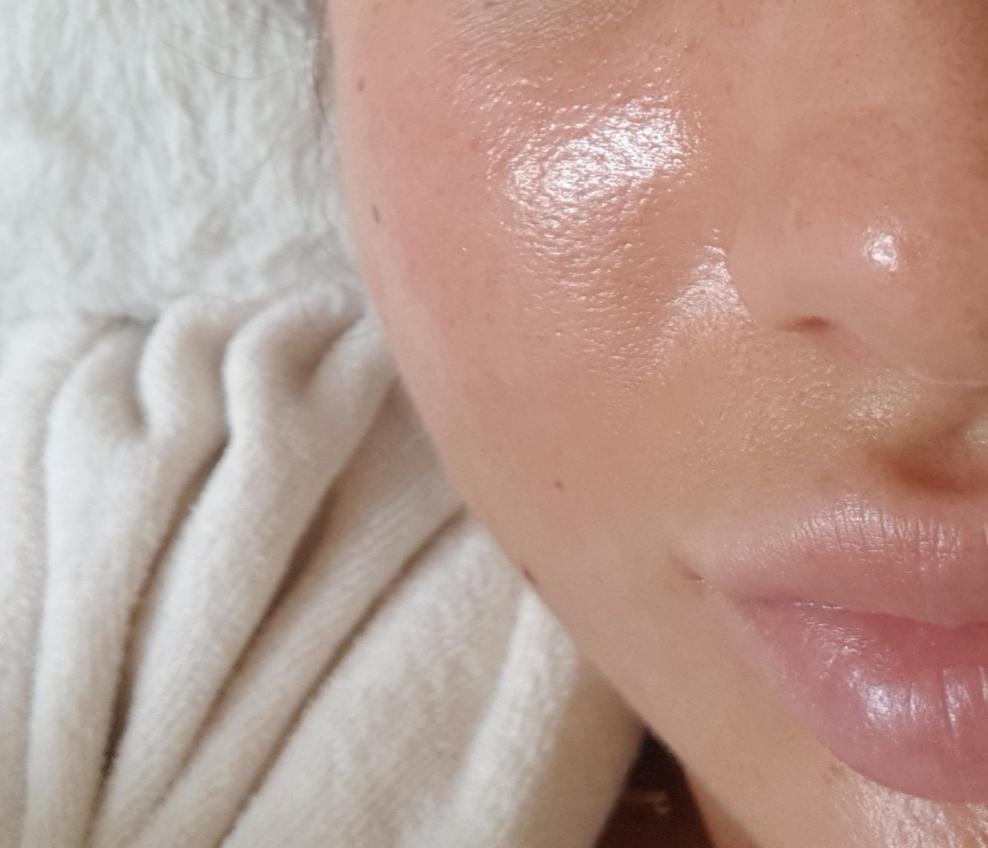Oily-Skin: (338, 116, 884, 432)
